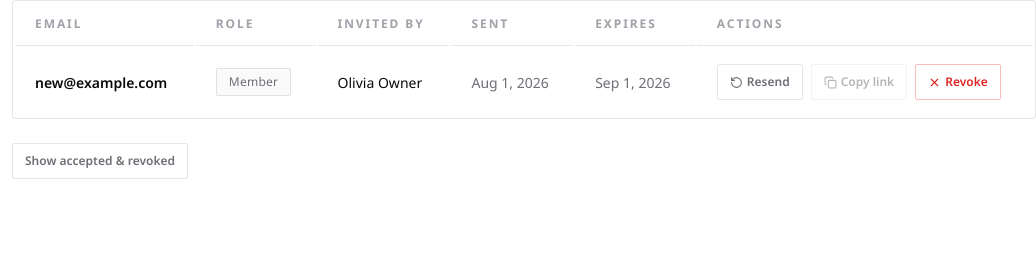
Test: InvitationsPanel › reveals a copy-able accept link after a resend
This screenshot has width=1036, height=258.
Check: the button "Copy link" is disabled, box [811, 64, 907, 100]
Click the button "Resend". click: (760, 82)
box: [717, 64, 803, 100]
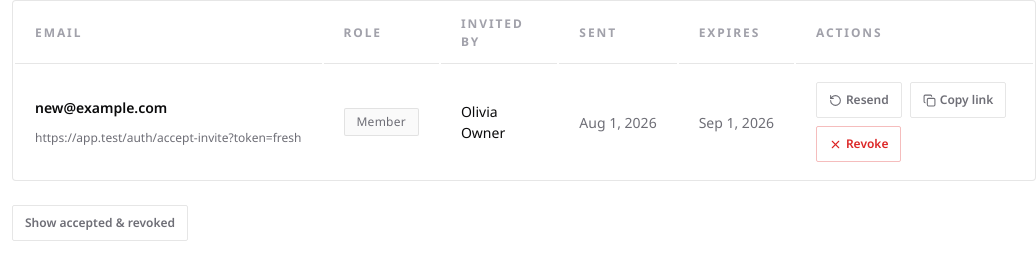
Check: the text "https://app.test/auth/accept-invite?token=fresh" is shown, box [35, 129, 302, 146]
